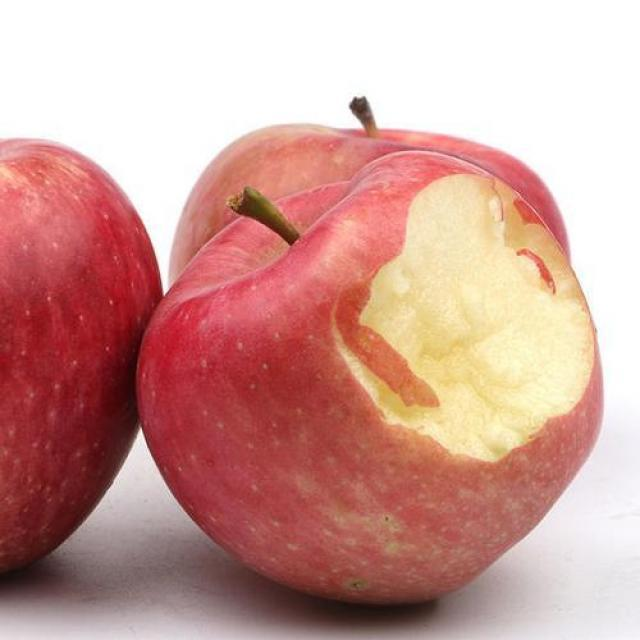Banana: (158, 123, 588, 615)
